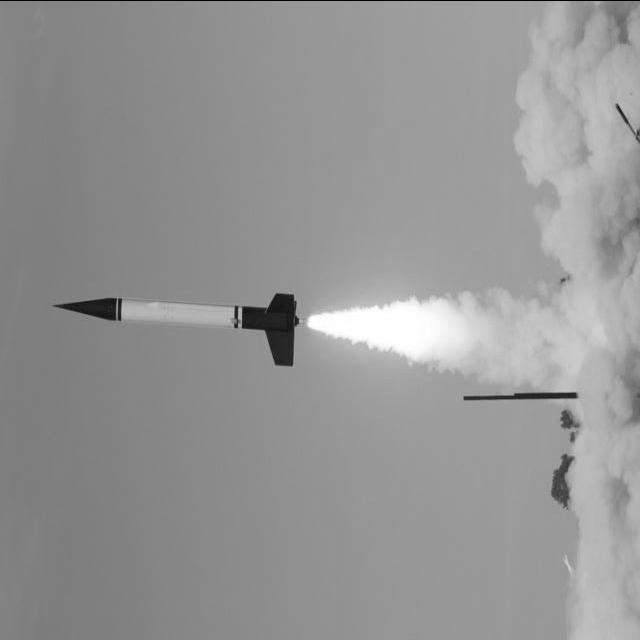missile: (52, 287, 299, 367), (28, 286, 270, 331)
